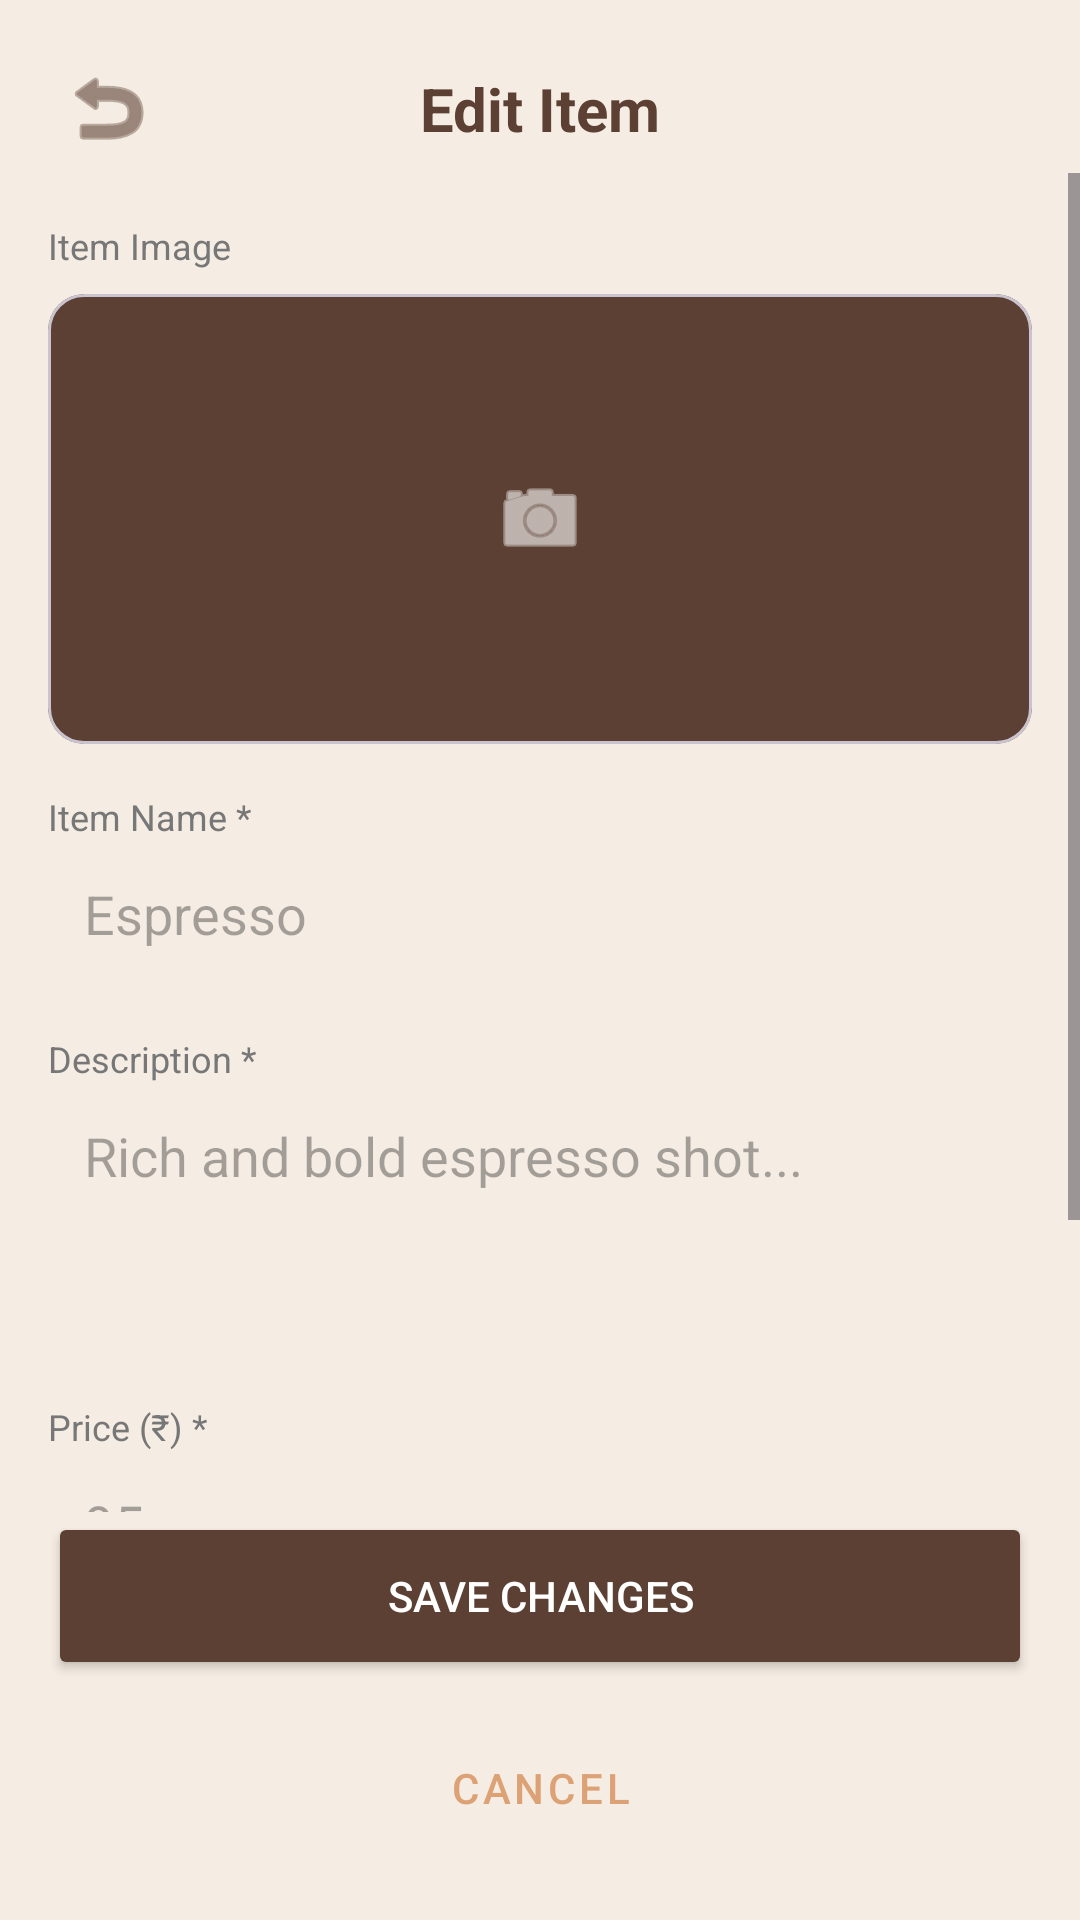

Where icons sit on this 1080w x 1920h app screen, as (x1, y1, x2, y2):
camera: (503, 488, 577, 547)
revert: (75, 77, 144, 140)
